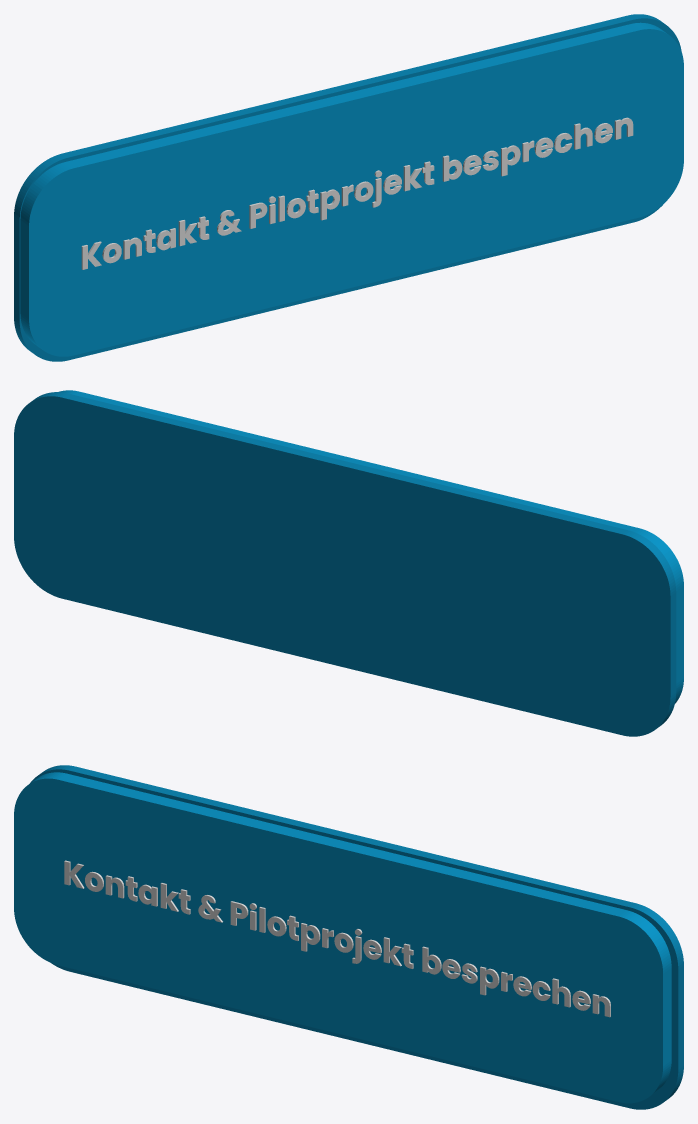
Rendered from cta-button.glb.
3 renders of one model, top to bottom at view 1: azimuth 30°, elevation 25°; view 2: azimuth 150°, elevation 25°; view 3: azimuth 330°, elevation 25°, orthographic.
Parts seen in each view (by area): view 1: geometry_0; view 2: geometry_0; view 3: geometry_0.
Boxes of the visible parts, left/top/right/bottom form: geometry_0: left=14, top=14, right=683, bottom=361; geometry_0: left=14, top=390, right=683, bottom=736; geometry_0: left=14, top=765, right=683, bottom=1109.
Bounding box in the file's own units: 0.2666 × 0.078 × 0.011.
